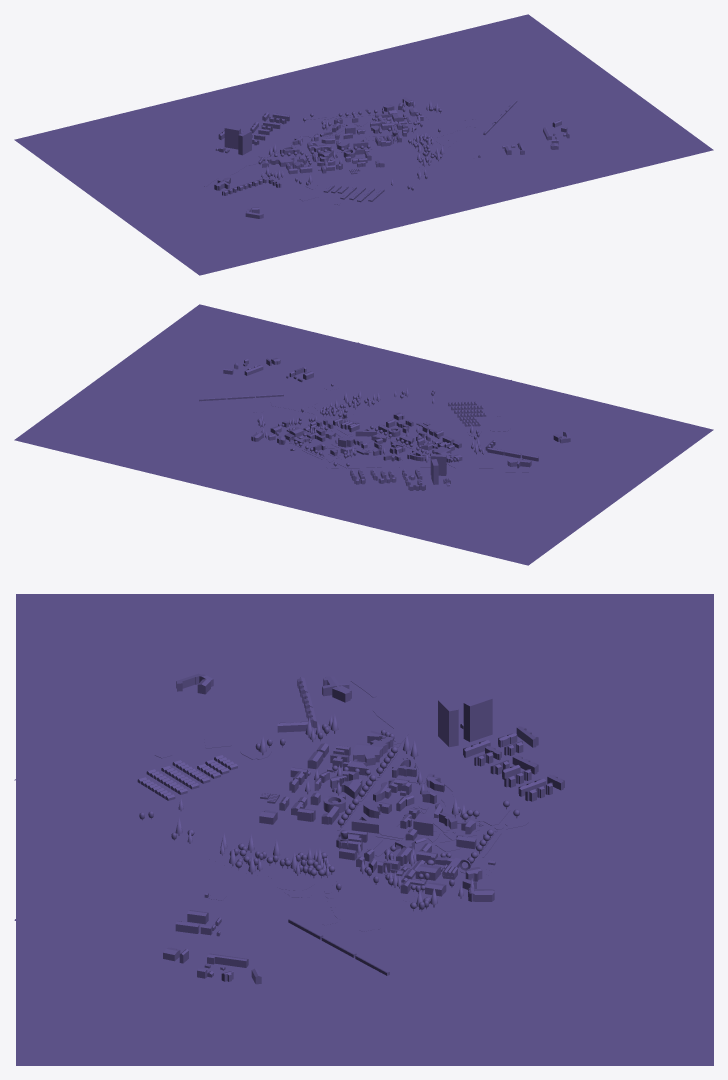
Rendered from UtalMap_01.fbx.
3 renders of one model, top to bottom at view 1: azimuth 30°, elevation 25°; view 2: azimuth 150°, elevation 25°; view 3: azimuth 270°, elevation 25°, orthographic. The views are drawn at different scales.
Parts seen in each view (by area): view 1: Grpind, map (1).osm_roads_residential, map (1).osm_forest, map (1).osm_roads_service, map (1).osm_paths_footway, map (1).osm_vegetation.022, map (1).osm_roads_motorway, map (1).osm_roads_primary, map (1).osm_forest.001; view 2: Grpind, map (1).osm_roads_residential, map (1).osm_forest, map (1).osm_roads_service, map (1).osm_roads_motorway, map (1).osm_vegetation.022, map (1).osm_paths_footway, map (1).osm_roads_primary, map (1).osm_forest.001, map (1).osm_railways; view 3: Grpind, map (1).osm_roads_residential, map (1).osm_forest, map (1).osm_roads_motorway, map (1).osm_vegetation.022, map (1).osm_roads_service, map (1).osm_paths_footway, map (1).osm_roads_primary, map (1).osm_forest.001, river, map (1).osm_buildings.127, map (1).osm_railways (+2 smaller).
Boxes of the visible parts, left/top/right/bottom form: Grpind: left=14, top=14, right=713, bottom=275; map (1).osm_roads_residential: left=146, top=90, right=496, bottom=232; map (1).osm_forest: left=227, top=96, right=317, bottom=119; map (1).osm_roads_service: left=213, top=112, right=553, bottom=195; map (1).osm_paths_footway: left=248, top=107, right=489, bottom=172; map (1).osm_vegetation.022: left=258, top=120, right=332, bottom=157; map (1).osm_roads_motorway: left=505, top=35, right=555, bottom=189; map (1).osm_roads_primary: left=191, top=99, right=335, bottom=199; map (1).osm_forest.001: left=406, top=139, right=443, bottom=169; Grpind: left=14, top=304, right=713, bottom=565; map (1).osm_roads_residential: left=203, top=391, right=570, bottom=526; map (1).osm_forest: left=306, top=471, right=359, bottom=502; map (1).osm_roads_service: left=248, top=366, right=532, bottom=488; map (1).osm_roads_motorway: left=48, top=342, right=359, bottom=422; map (1).osm_vegetation.022: left=333, top=453, right=430, bottom=468; map (1).osm_paths_footway: left=239, top=397, right=455, bottom=469; map (1).osm_roads_primary: left=284, top=467, right=562, bottom=471; map (1).osm_forest.001: left=316, top=397, right=384, bottom=419; map (1).osm_railways: left=59, top=380, right=511, bottom=414; Grpind: left=16, top=594, right=713, bottom=1065; map (1).osm_roads_residential: left=56, top=659, right=664, bottom=957; map (1).osm_forest: left=523, top=768, right=632, bottom=834; map (1).osm_roads_motorway: left=14, top=919, right=613, bottom=1058; map (1).osm_vegetation.022: left=402, top=745, right=510, bottom=825; map (1).osm_roads_service: left=144, top=685, right=569, bottom=969; map (1).osm_paths_footway: left=216, top=734, right=512, bottom=944; map (1).osm_roads_primary: left=314, top=659, right=569, bottom=853; map (1).osm_forest.001: left=209, top=846, right=336, bottom=881; river: left=172, top=670, right=331, bottom=882; map (1).osm_buildings.127: left=463, top=695, right=492, bottom=741; map (1).osm_railways: left=14, top=779, right=573, bottom=1058.
Size of the model in its own units: 249371 by 9323 by 156330.
